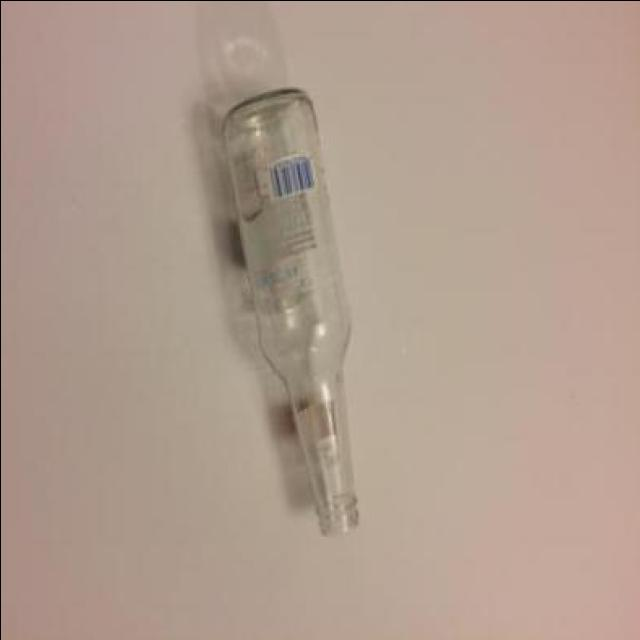kaca: (224, 90, 361, 540)
